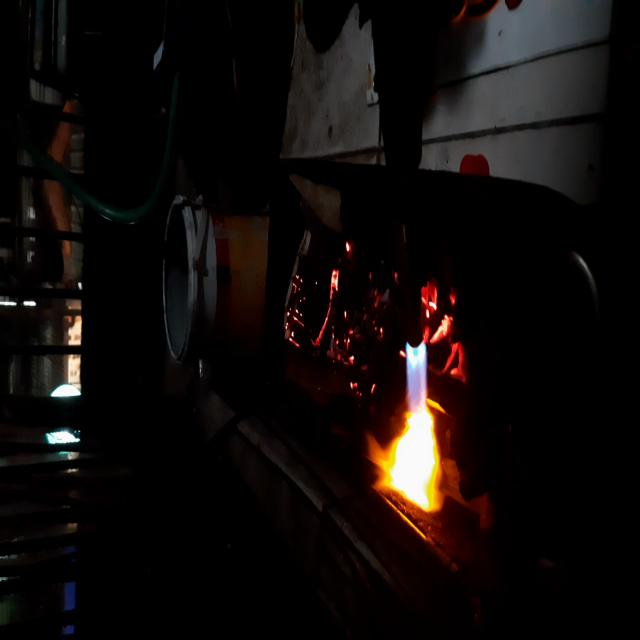Fire: (366, 324, 446, 532), (280, 242, 372, 392), (417, 276, 474, 384)
